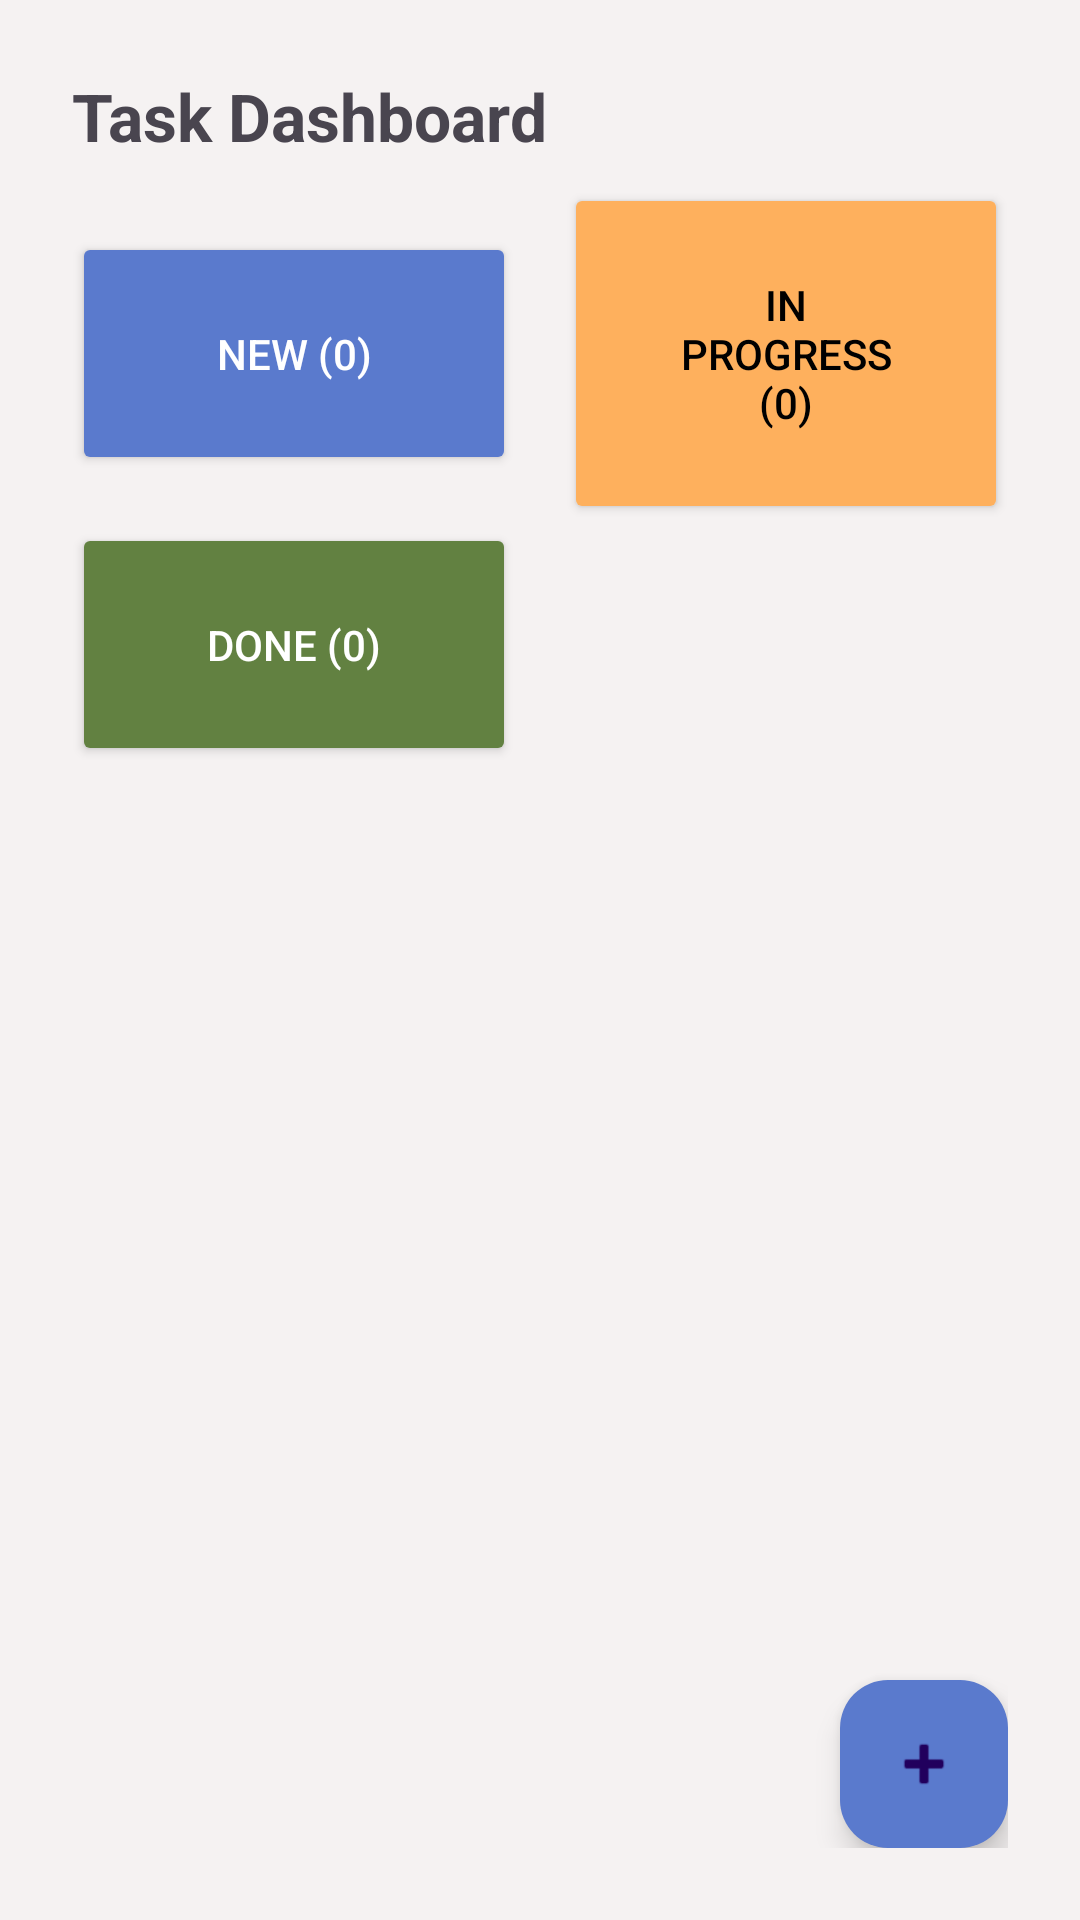

Named icons in this screenshot (1080w x 1920h) and their bounding boxes, Rect(x1, y1, x2, y2):
Add Task: Rect(840, 1680, 1008, 1848)
